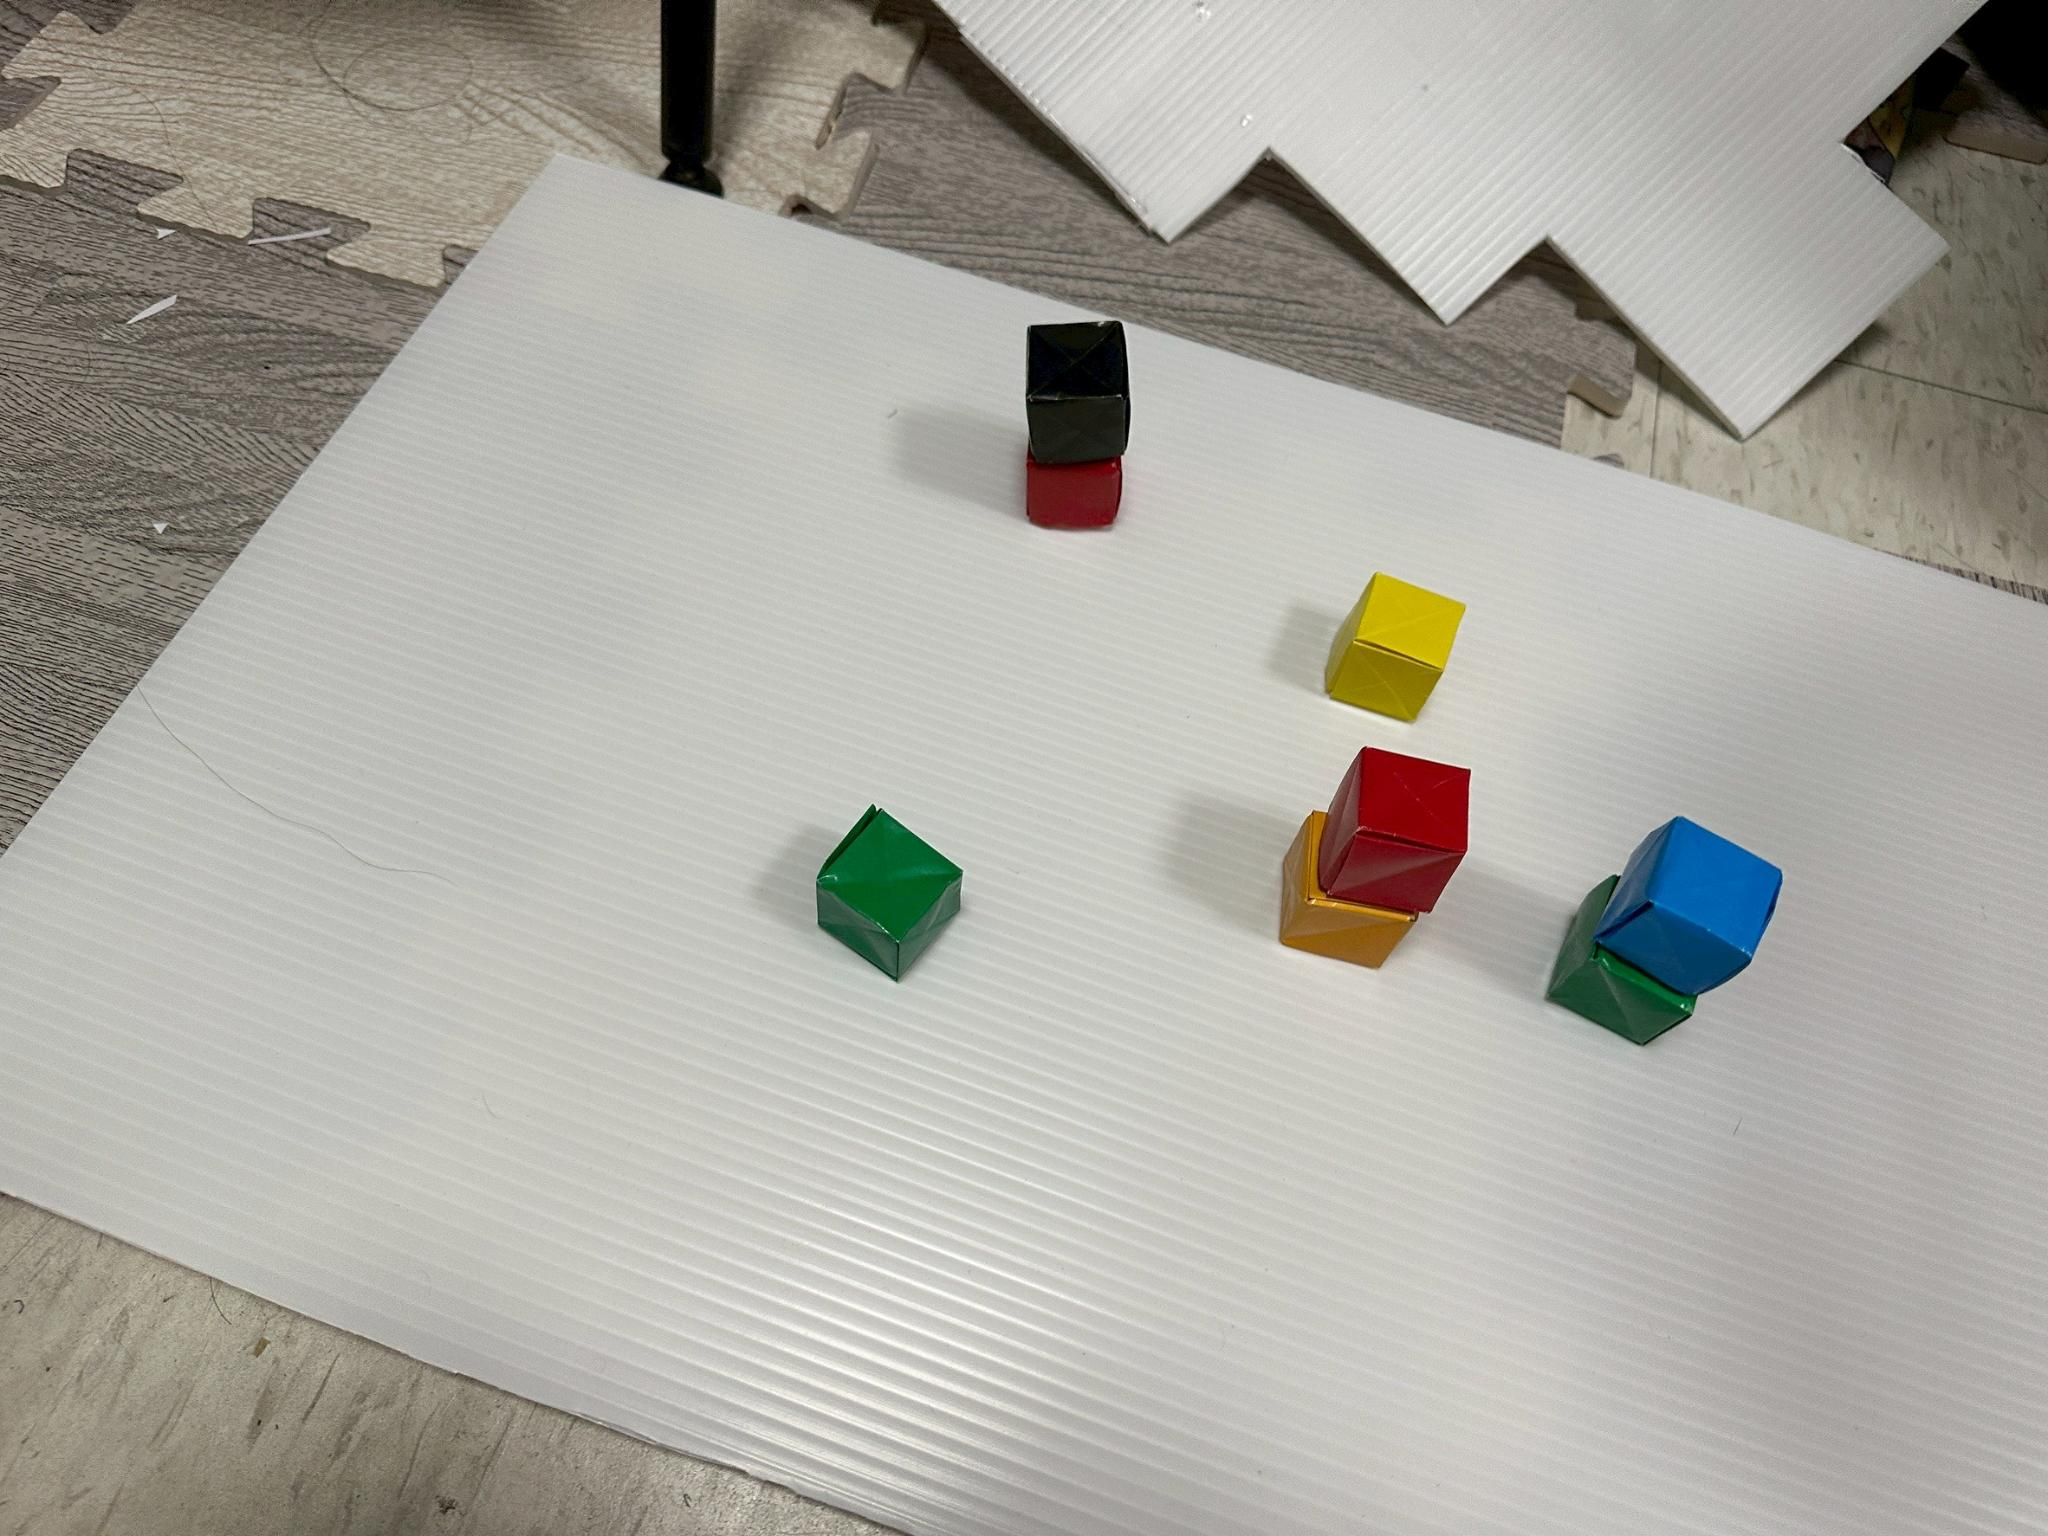cube: (1593, 818, 1782, 994), (1546, 876, 1695, 1046), (1319, 747, 1469, 913), (818, 812, 961, 978), (1280, 812, 1416, 968), (1324, 573, 1464, 721), (1027, 321, 1130, 465), (1026, 455, 1122, 529)
